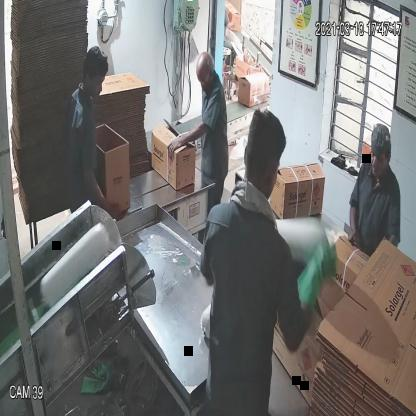glove: (292, 215, 338, 321)
no_glove: (79, 150, 121, 218), (156, 120, 215, 160), (346, 188, 365, 258)
